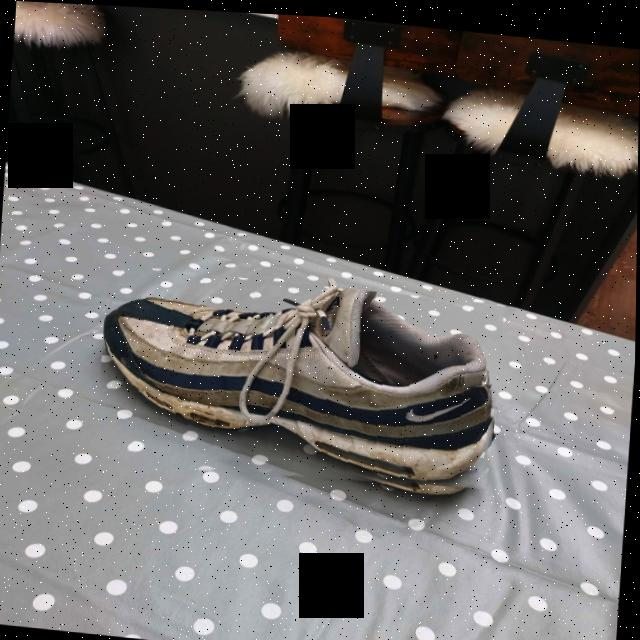shoe: (96, 263, 506, 500)
